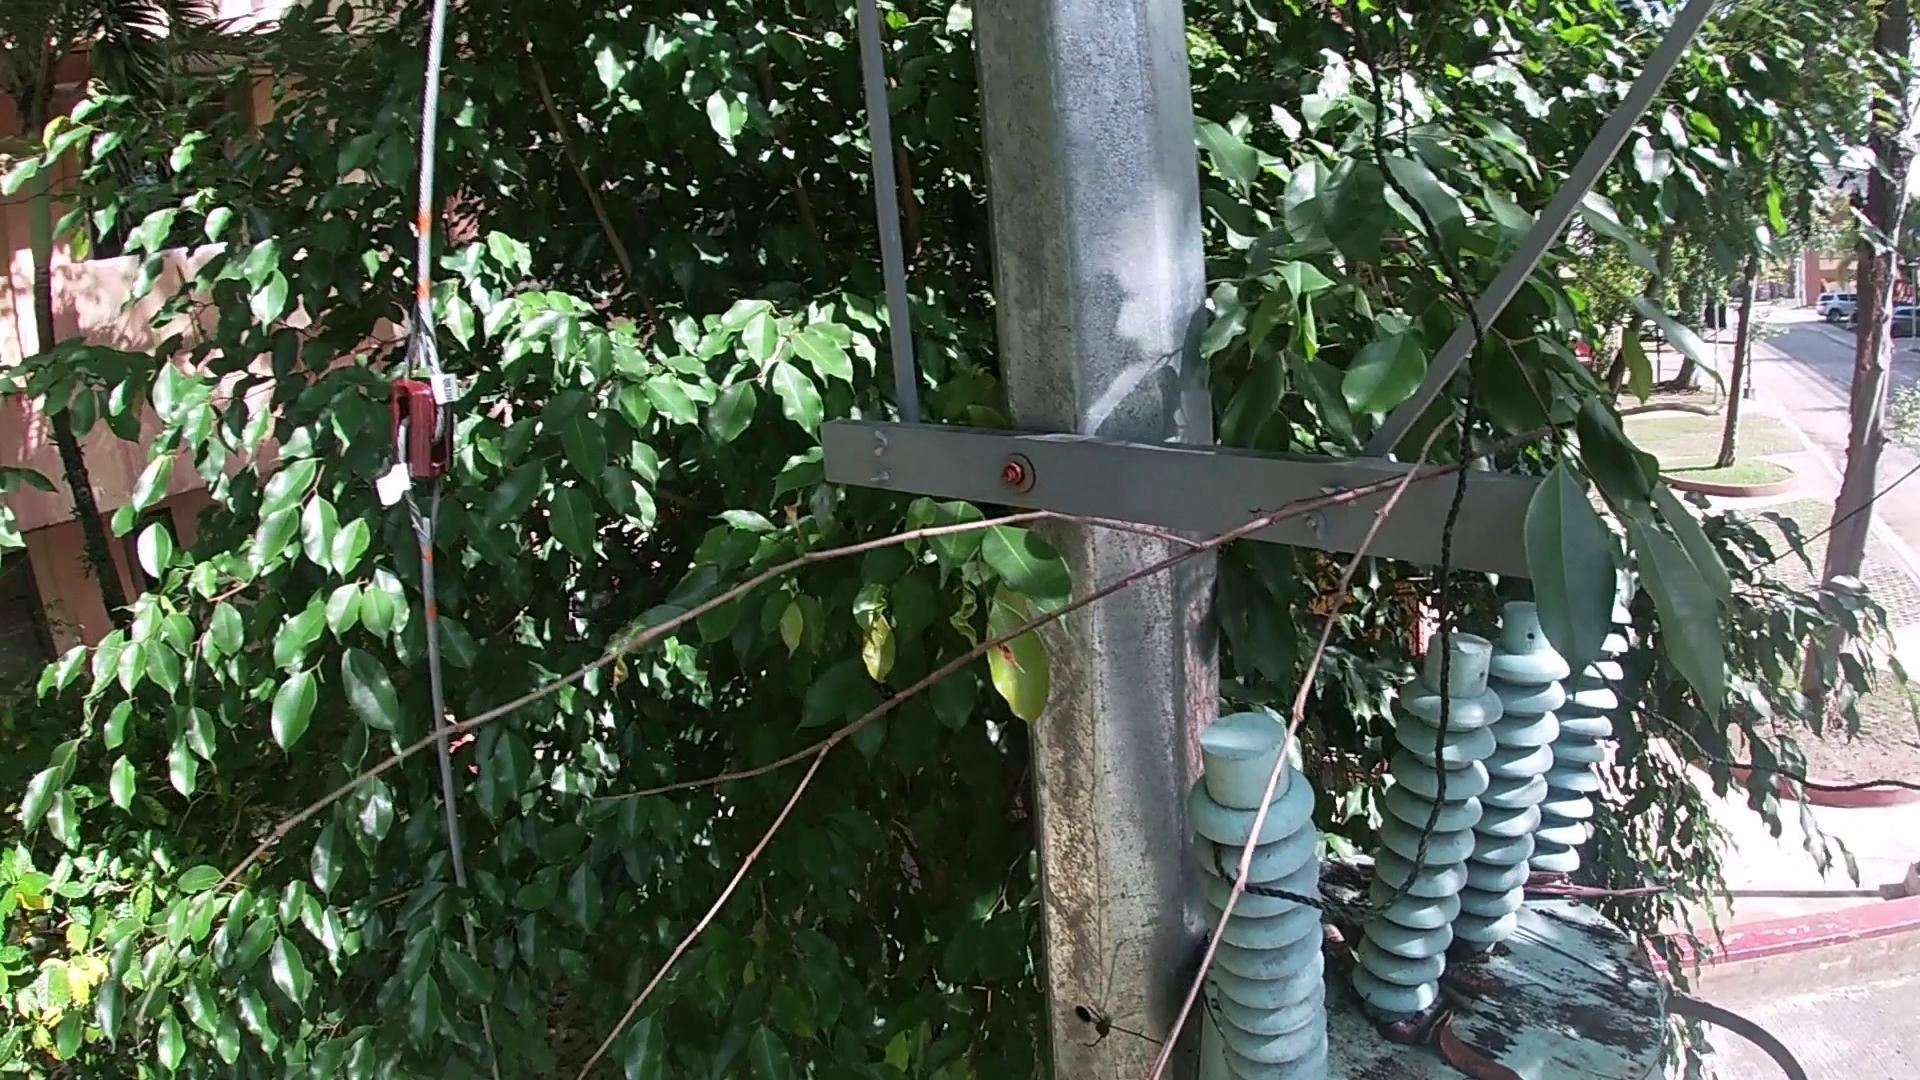leaf: (1356, 1019, 1425, 1048)
mahogany fruit: (1433, 1021, 1520, 1077), (1452, 961, 1503, 1004)
tree branch: (177, 392, 1733, 1079), (1516, 926, 1643, 1000), (1528, 872, 1675, 913), (1321, 894, 1360, 975), (1320, 849, 1366, 887), (1494, 980, 1561, 994)
